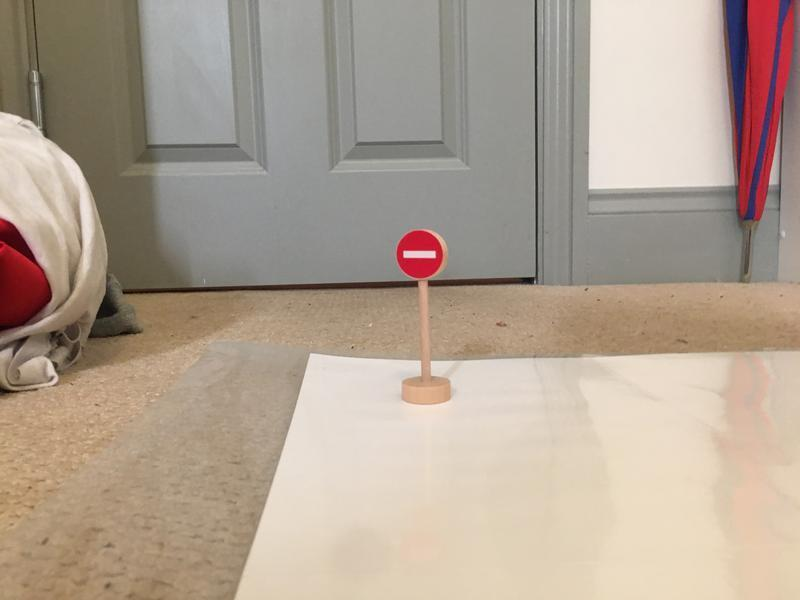Traffic_Sign_No_Entry: (397, 231, 444, 279)
